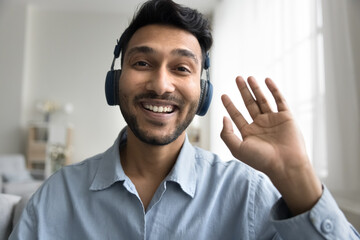Hello: (217, 70, 317, 177)
